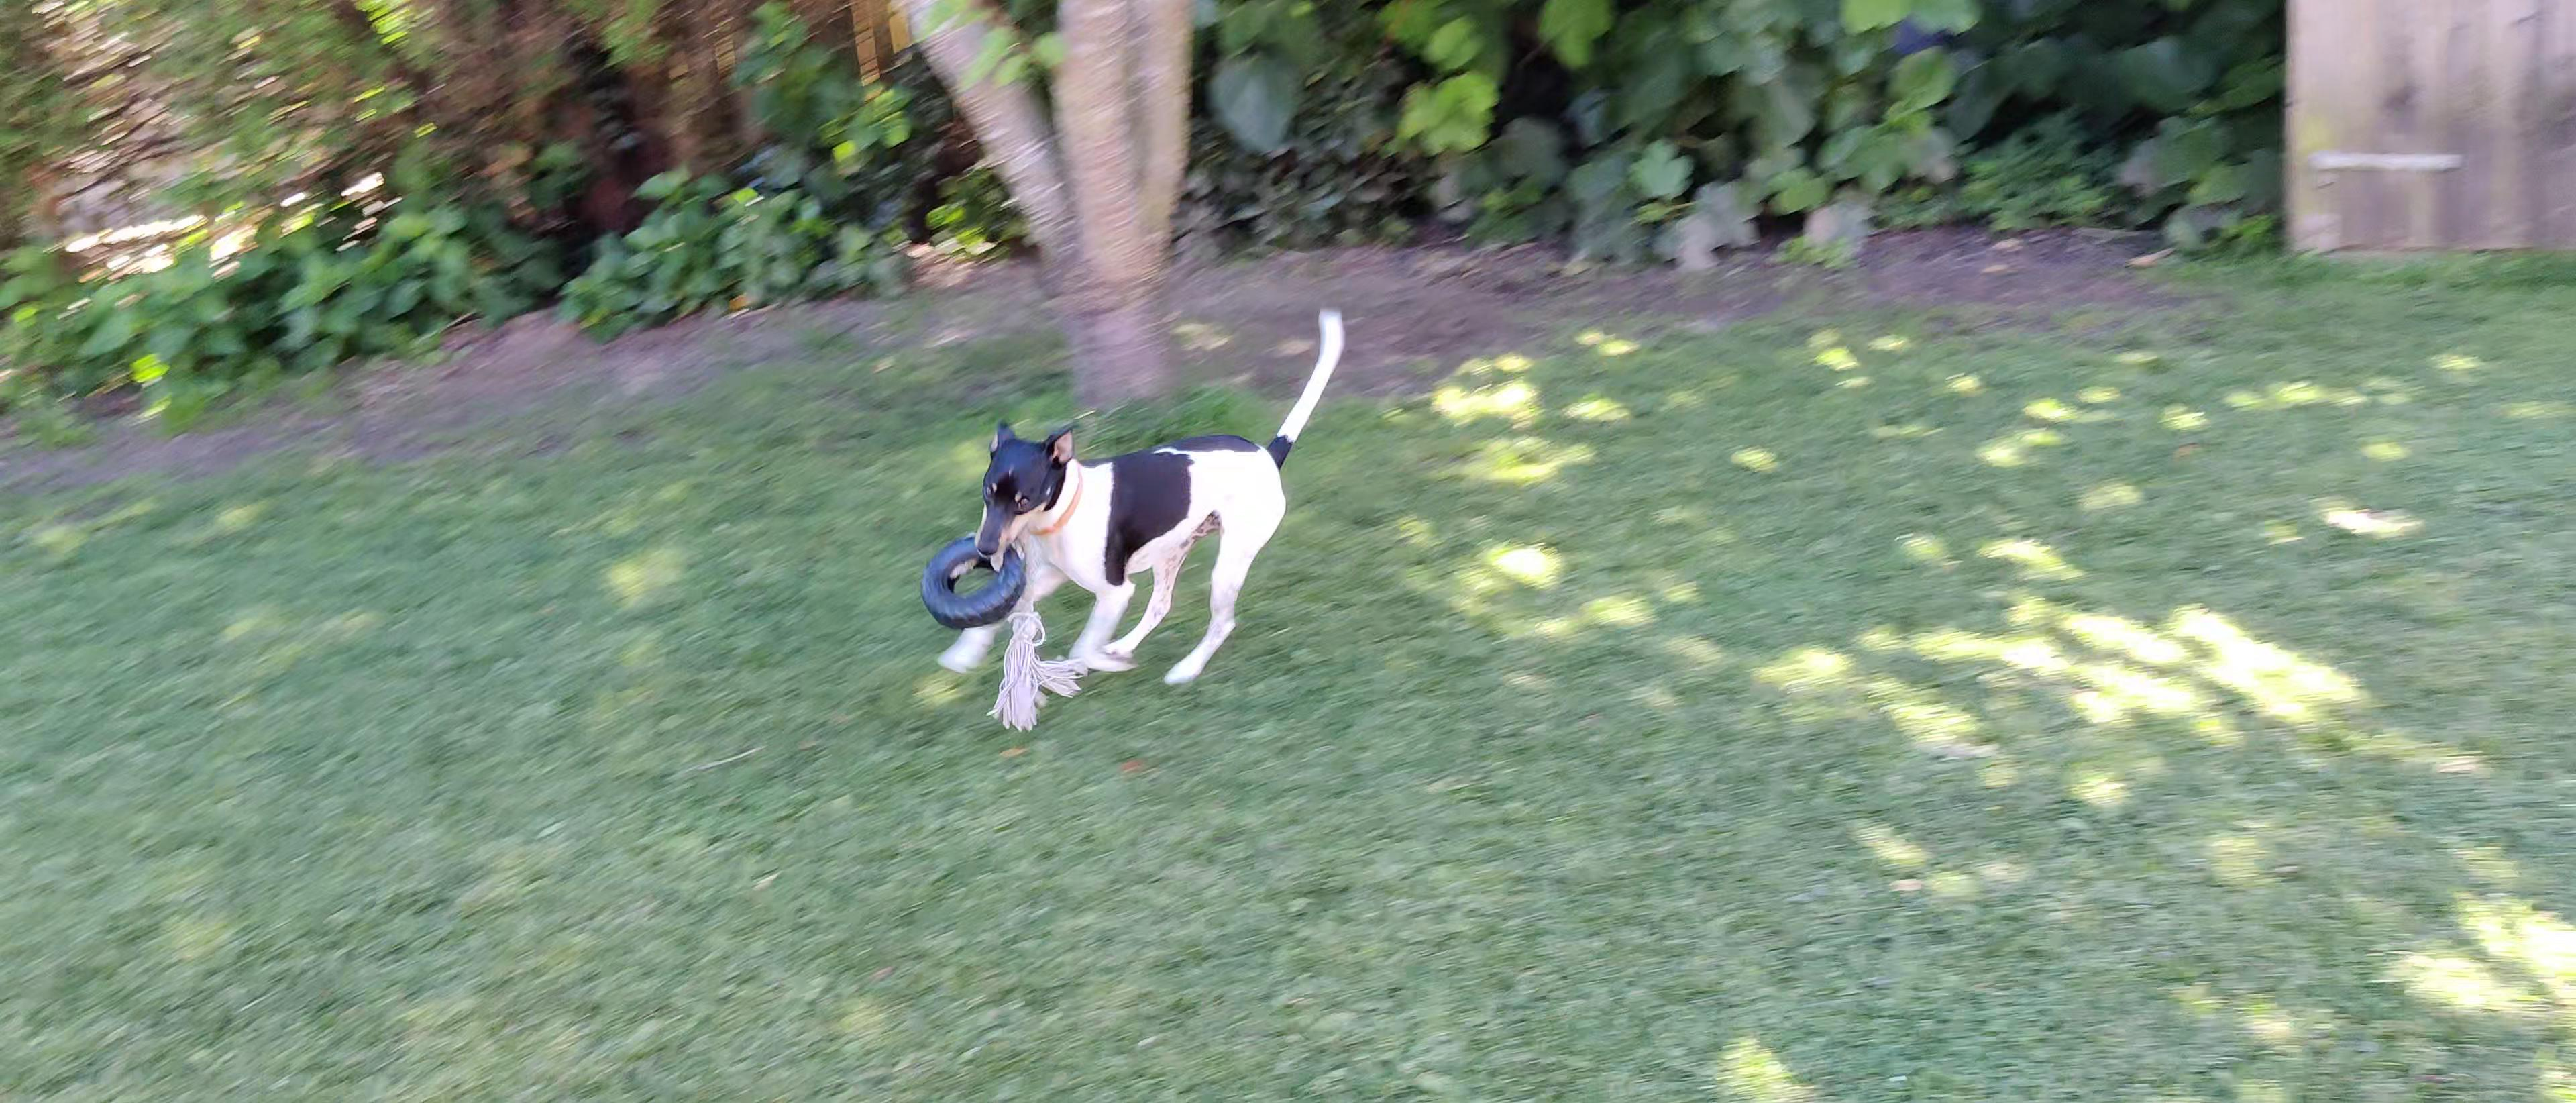Dog: (925, 298, 1349, 690)
